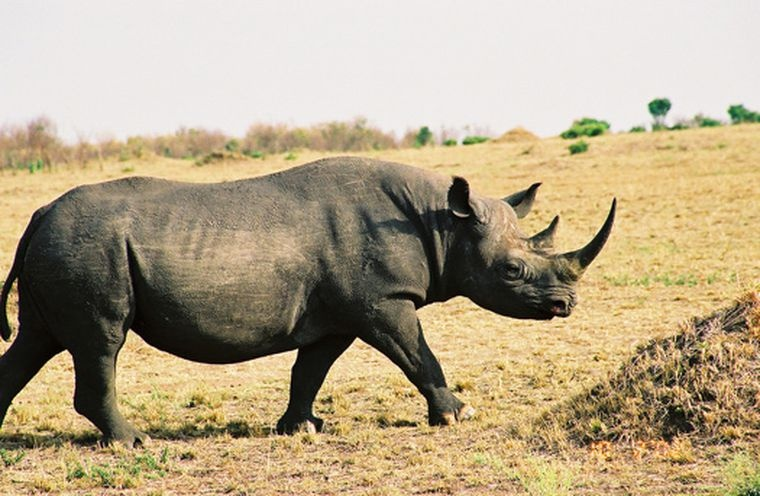zebra: (1, 153, 619, 452)
